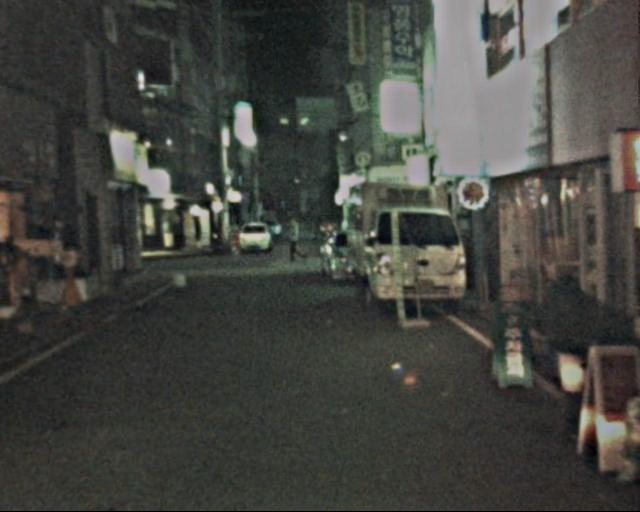person: (280, 216, 306, 269)
